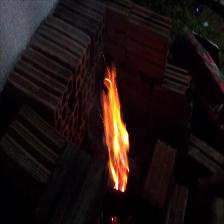fire: (90, 59, 142, 198)
